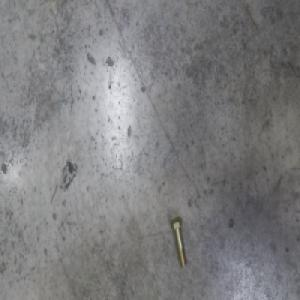Bolt: (169, 215, 187, 268)
